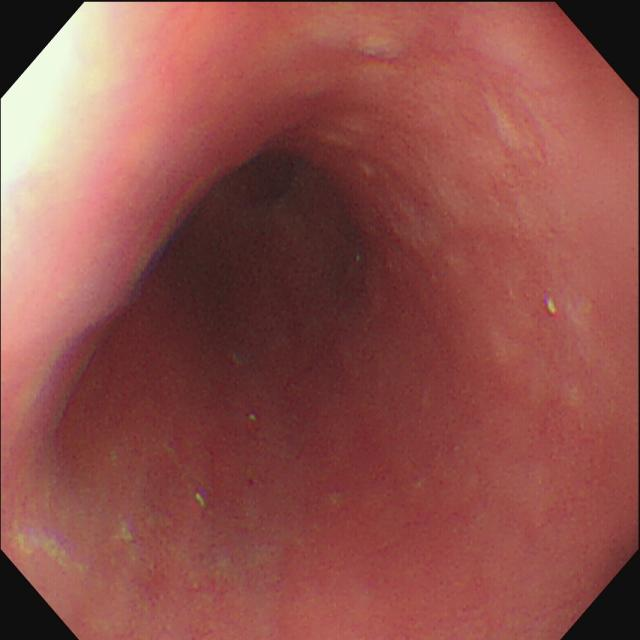U: (540, 294, 562, 324)
